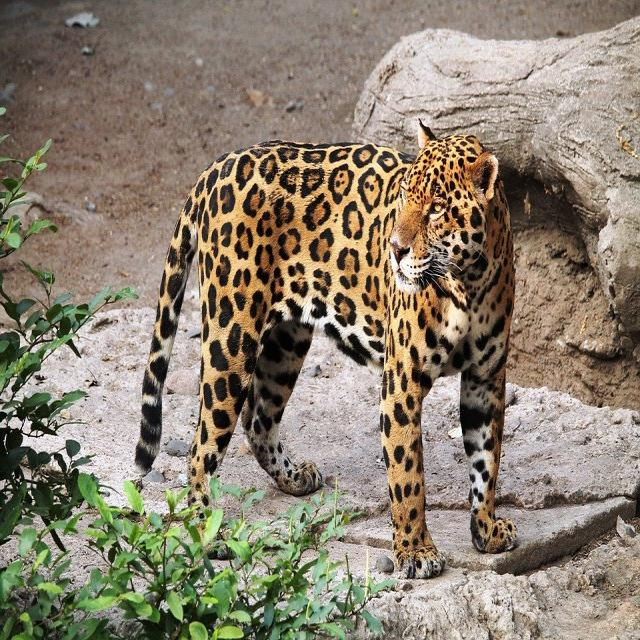Jaguar: (106, 88, 542, 604)
